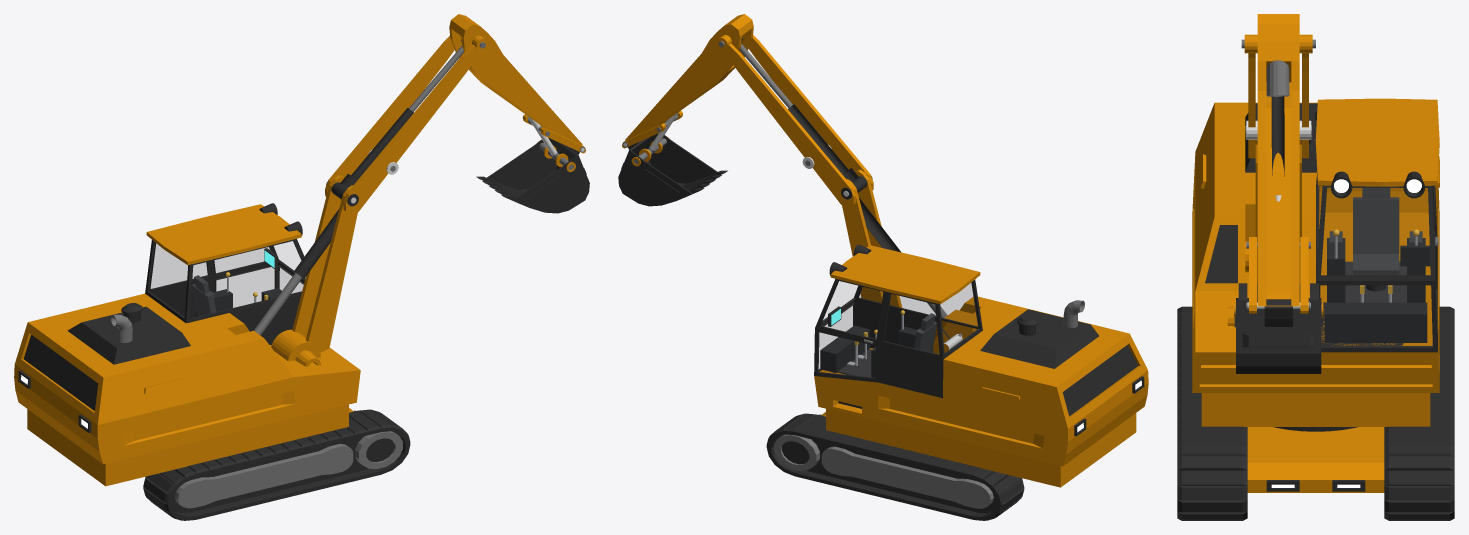
The model's file is excavator_1st.glb.
3 renders of one model, left to right at view 1: azimuth 30°, elevation 25°; view 2: azimuth 150°, elevation 25°; view 3: azimuth 270°, elevation 25°, orthographic. The views are drawn at different scales.
Visible parts, largest first — view 1: Excavator_Body, Excavator_Tracs, Excavator_Body_Skirt, Excavator_Arm_Long_02, Excavator_Arm_Long_01, Excavator_Bucket, Excavator_Arm_Short, Excavator_Cylinder_01, Excavator_Cylinder_02, Excavator_Idlers, Excavator_Boom_Foot_Boss; view 2: Excavator_Body, Excavator_Tracs, Excavator_Body_Skirt, Excavator_Arm_Long_02, Excavator_Bucket, Excavator_Arm_Short, Excavator_Arm_Long_01, Excavator_Cylinder_02, Excavator_Idlers, Int_Dash, Excavator_Cylinder_01; view 3: Excavator_Body, Excavator_Tracs, Excavator_Arm_Short, Excavator_Body_Skirt, Excavator_Base, Excavator_Bucket, Int_Dash, Int_Seat_Back, Excavator_Cylinder_03, Excavator_Arm_Long_02, Excavator_Arm_Bucket, Int_Floor (+10 smaller).
Boxes of the visible parts, bbox=[...] form: Excavator_Body: bbox=[14, 204, 360, 464]; Excavator_Tracs: bbox=[143, 409, 410, 520]; Excavator_Body_Skirt: bbox=[27, 404, 348, 486]; Excavator_Arm_Long_02: bbox=[325, 36, 481, 213]; Excavator_Arm_Long_01: bbox=[292, 175, 357, 352]; Excavator_Bucket: bbox=[476, 137, 589, 213]; Excavator_Arm_Short: bbox=[449, 14, 582, 144]; Excavator_Cylinder_01: bbox=[248, 209, 338, 335]; Excavator_Cylinder_02: bbox=[339, 40, 463, 187]; Excavator_Idlers: bbox=[355, 431, 402, 469]; Excavator_Boom_Foot_Boss: bbox=[271, 329, 320, 360]; Excavator_Body: bbox=[814, 245, 1148, 466]; Excavator_Tracs: bbox=[766, 413, 1024, 520]; Excavator_Body_Skirt: bbox=[826, 408, 1136, 487]; Excavator_Arm_Long_02: bbox=[723, 35, 873, 206]; Excavator_Bucket: bbox=[618, 133, 727, 206]; Excavator_Arm_Short: bbox=[625, 14, 753, 140]; Excavator_Arm_Long_01: bbox=[842, 169, 902, 307]; Excavator_Cylinder_02: bbox=[739, 38, 859, 181]; Excavator_Idlers: bbox=[774, 434, 819, 470]; Int_Dash: bbox=[820, 325, 870, 372]; Excavator_Cylinder_01: bbox=[859, 197, 962, 338]; Excavator_Body: bbox=[1192, 98, 1439, 392]; Excavator_Tracs: bbox=[1177, 306, 1454, 520]; Excavator_Arm_Short: bbox=[1257, 14, 1299, 306]; Excavator_Body_Skirt: bbox=[1201, 215, 1430, 426]; Excavator_Base: bbox=[1247, 427, 1384, 492]; Excavator_Bucket: bbox=[1234, 283, 1322, 373]; Int_Dash: bbox=[1325, 302, 1427, 342]; Int_Seat_Back: bbox=[1353, 197, 1399, 253]; Excavator_Cylinder_03: bbox=[1266, 60, 1289, 201]; Excavator_Arm_Long_02: bbox=[1248, 53, 1308, 158]; Excavator_Arm_Bucket: bbox=[1249, 237, 1308, 313]; Int_Floor: bbox=[1345, 261, 1406, 302].
Bounding box in the file's own units: 9.22 × 6.95 × 2.98.
